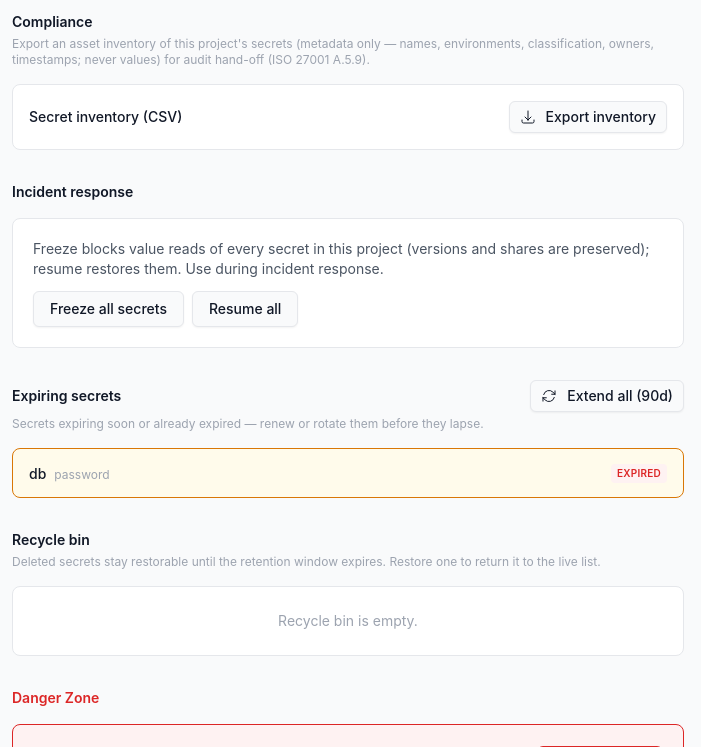
Test: ProjectSettingsTab — promote environment › POSTs extend-expiring when "Extend all" is clicked
(page scrolled)
Click the button "Extend all (90d)".
click(607, 396)  # box [530,380,684,412]
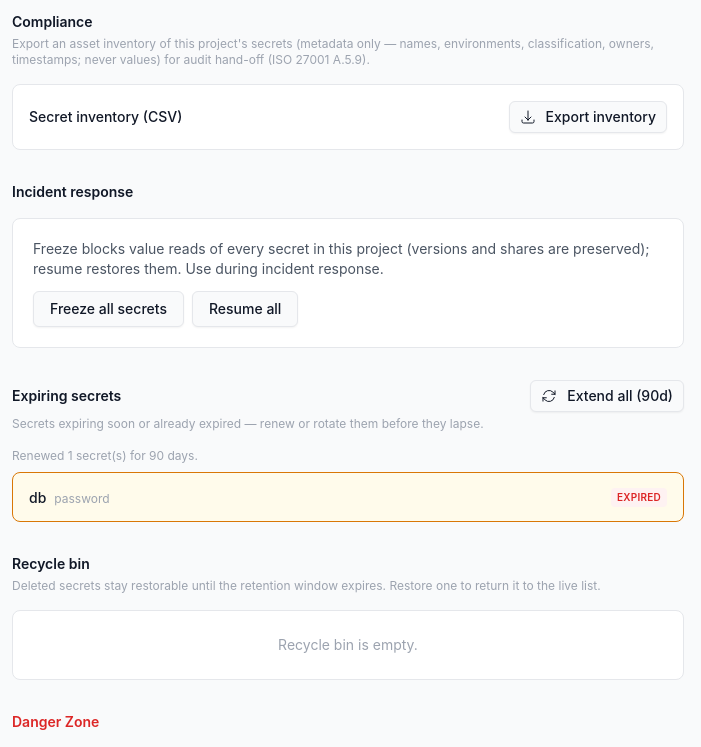
Now the text "Renewed 1 secret(s) for 90 days." is shown, box [12,448,198,463]
